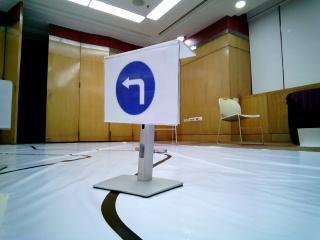left: (114, 59, 169, 115)
